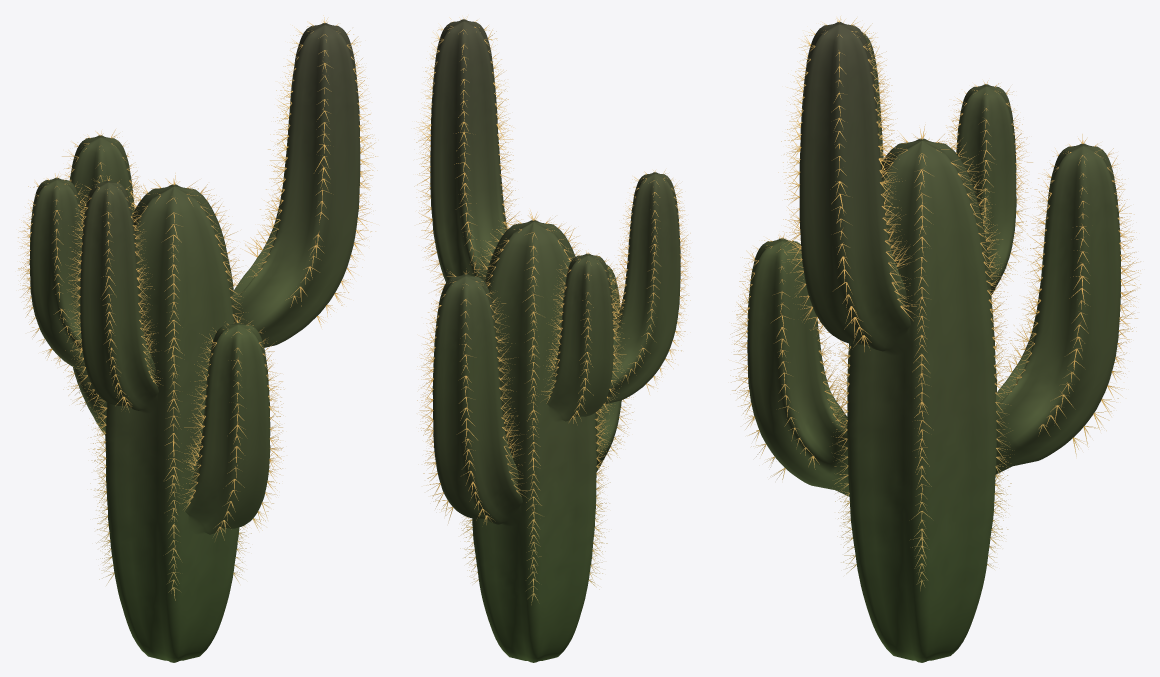
File: Cactus3.fbx
The picture shows the model from 3 angles, left to right: view 1: azimuth 30°, elevation 25°; view 2: azimuth 150°, elevation 25°; view 3: azimuth 270°, elevation 25°; orthographic projection. The views are drawn at different scales.
Parts seen in each view (by area): view 1: Cactus3; view 2: Cactus3; view 3: Cactus3.
Boxes of the visible parts, <box> form: Cactus3: <box>18,15,377,662</box>; Cactus3: <box>414,16,690,662</box>; Cactus3: <box>730,16,1140,662</box>.
Size of the model in its own units: 37.31 by 73.93 by 40.5.
